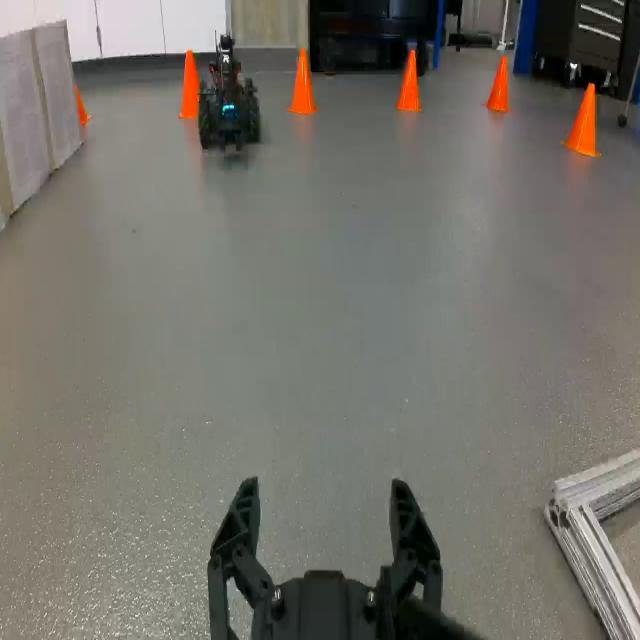cone: (562, 81, 602, 155), (287, 47, 319, 112), (178, 48, 207, 117), (397, 48, 421, 109), (488, 54, 508, 110), (74, 84, 90, 124)
metal barrier: (546, 450, 640, 640)
robot: (198, 34, 260, 148)
storage cube: (0, 24, 56, 228), (34, 18, 85, 169)
